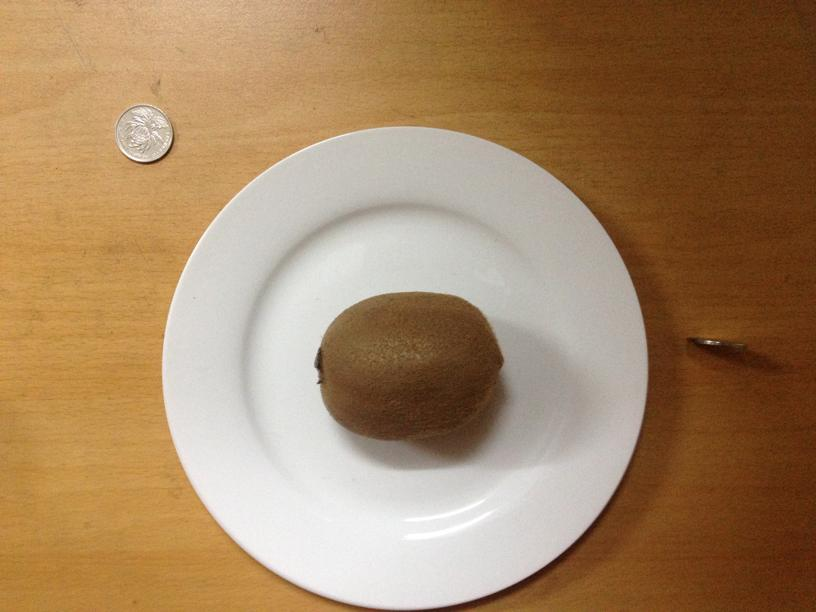coin: (109, 102, 172, 161)
qiwi: (317, 295, 498, 436)
